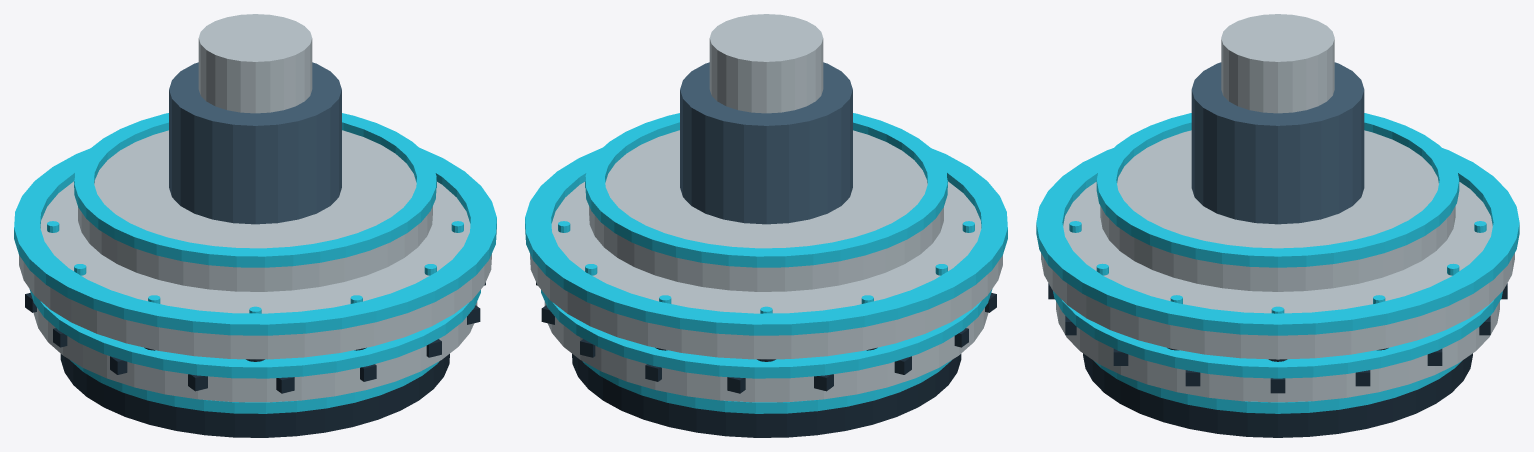
Rendered from 28_L77_SoftLandingCarrierHead.fbx.
3 renders of one model, left to right at view 1: azimuth 30°, elevation 25°; view 2: azimuth 150°, elevation 25°; view 3: azimuth 270°, elevation 25°, orthographic.
Visible parts, largest first — view 1: SoftLandingCarrierHead_Part_0006, SoftLandingCarrierHead_Part_0004, SoftLandingCarrierHead_Part_0008, SoftLandingCarrierHead_Part_0005, SoftLandingCarrierHead_Part_0007, SoftLandingCarrierHead_Part_0009, SoftLandingCarrierHead_Part_0000, SoftLandingCarrierHead_Part_0002, SoftLandingCarrierHead_Part_0003, SoftLandingCarrierHead_Part_0001; view 2: SoftLandingCarrierHead_Part_0006, SoftLandingCarrierHead_Part_0004, SoftLandingCarrierHead_Part_0008, SoftLandingCarrierHead_Part_0005, SoftLandingCarrierHead_Part_0007, SoftLandingCarrierHead_Part_0009, SoftLandingCarrierHead_Part_0000, SoftLandingCarrierHead_Part_0002, SoftLandingCarrierHead_Part_0003, SoftLandingCarrierHead_Part_0001; view 3: SoftLandingCarrierHead_Part_0006, SoftLandingCarrierHead_Part_0004, SoftLandingCarrierHead_Part_0008, SoftLandingCarrierHead_Part_0005, SoftLandingCarrierHead_Part_0007, SoftLandingCarrierHead_Part_0009, SoftLandingCarrierHead_Part_0000, SoftLandingCarrierHead_Part_0002, SoftLandingCarrierHead_Part_0003, SoftLandingCarrierHead_Part_0001.
Part boxes in pixels (x1,y1,x2,y2): SoftLandingCarrierHead_Part_0006: (78,130,432,291); SoftLandingCarrierHead_Part_0004: (19,181,491,359); SoftLandingCarrierHead_Part_0008: (169,62,341,224); SoftLandingCarrierHead_Part_0005: (14,147,496,335); SoftLandingCarrierHead_Part_0007: (74,113,436,267); SoftLandingCarrierHead_Part_0009: (198,14,312,113); SoftLandingCarrierHead_Part_0000: (60,354,449,437); SoftLandingCarrierHead_Part_0002: (33,301,477,402); SoftLandingCarrierHead_Part_0003: (29,289,480,378); SoftLandingCarrierHead_Part_0001: (70,360,439,413); SoftLandingCarrierHead_Part_0006: (589,130,943,291); SoftLandingCarrierHead_Part_0004: (530,181,1002,359); SoftLandingCarrierHead_Part_0008: (680,62,852,224); SoftLandingCarrierHead_Part_0005: (525,147,1007,335); SoftLandingCarrierHead_Part_0007: (585,113,947,267); SoftLandingCarrierHead_Part_0009: (709,14,823,113); SoftLandingCarrierHead_Part_0000: (572,354,961,437); SoftLandingCarrierHead_Part_0002: (544,301,988,402); SoftLandingCarrierHead_Part_0003: (541,289,992,378); SoftLandingCarrierHead_Part_0001: (582,360,951,413); SoftLandingCarrierHead_Part_0006: (1100,130,1455,291); SoftLandingCarrierHead_Part_0004: (1041,182,1514,359); SoftLandingCarrierHead_Part_0008: (1191,62,1364,224); SoftLandingCarrierHead_Part_0005: (1036,148,1519,335); SoftLandingCarrierHead_Part_0007: (1096,113,1459,267); SoftLandingCarrierHead_Part_0009: (1221,14,1334,113); SoftLandingCarrierHead_Part_0000: (1083,353,1472,437); SoftLandingCarrierHead_Part_0002: (1056,301,1499,402); SoftLandingCarrierHead_Part_0003: (1053,291,1502,378); SoftLandingCarrierHead_Part_0001: (1093,360,1462,413).
Size of the model in its own units: 196 by 142 by 196.
